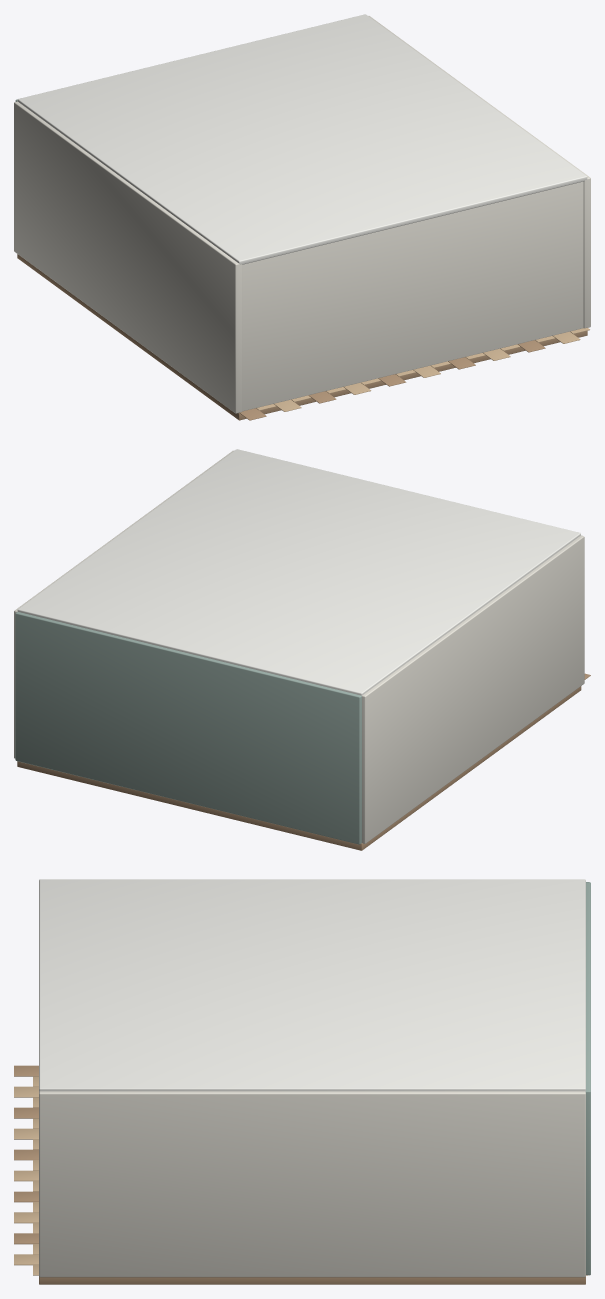
The model's file is Architecture.fbx.
3 renders of one model, top to bottom at view 1: azimuth 30°, elevation 25°; view 2: azimuth 150°, elevation 25°; view 3: azimuth 270°, elevation 25°, orthographic. The views are drawn at different scales.
Parts seen in each view (by area): view 1: Ceiling, FrontWall, LeftWall, Foundation, RightWall; view 2: Ceiling, BackWall, LeftWall, Foundation, RightWall; view 3: Ceiling, RightWall, Foundation, BackWall.
Part boxes in pixels (x1,y1,x2,y2): Ceiling: (17,14,587,264); FrontWall: (242,181,583,411); LeftWall: (14,101,242,413); Foundation: (17,254,587,420); RightWall: (368,16,590,328); Ceiling: (17,449,580,695); BackWall: (15,612,361,844); LeftWall: (362,535,584,843); Foundation: (17,686,581,850); RightWall: (14,450,233,758); Ceiling: (39,879,585,1091); RightWall: (39,1091,585,1277); Foundation: (39,1276,585,1284); BackWall: (585,882,590,1275).
Bounding box in the file's own units: 7.96 × 3.41 × 9.08.
